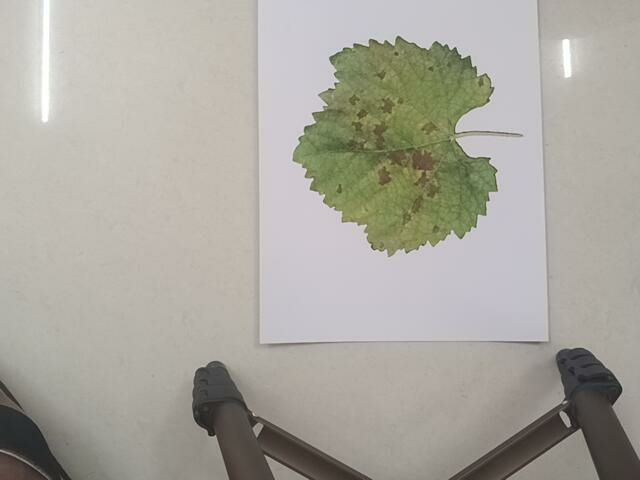Grape_Leaf_Vine_Disease: (285, 24, 537, 305)
